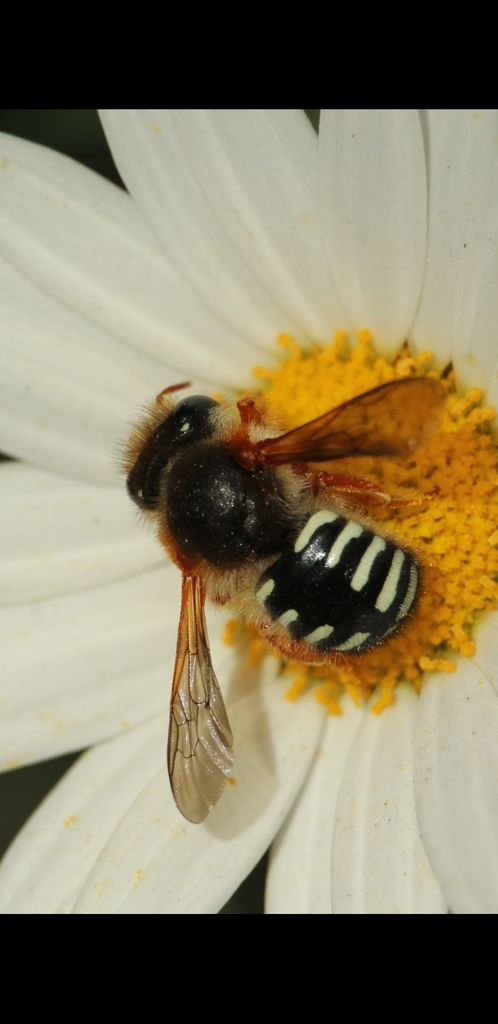not_bumblebee: (111, 377, 444, 827)
